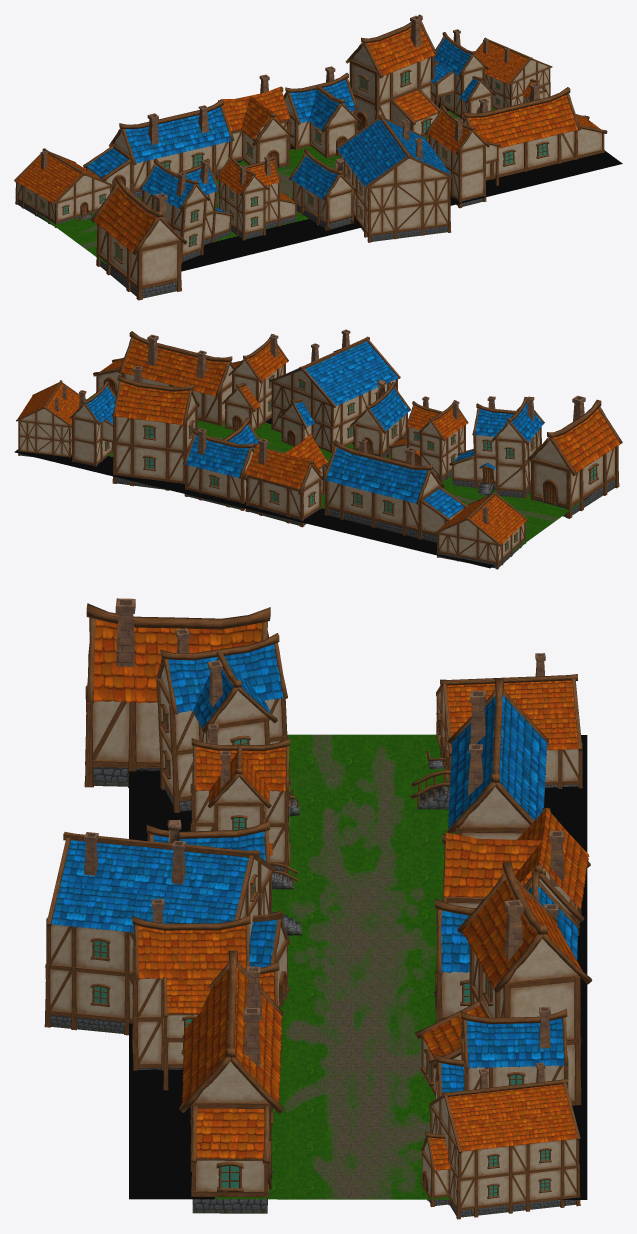
The model's file is houses.glb.
The picture shows the model from 3 angles, top to bottom: view 1: azimuth 30°, elevation 25°; view 2: azimuth 150°, elevation 25°; view 3: azimuth 270°, elevation 25°; orthographic projection. The views are drawn at different scales.
Visible parts, largest first — view 1: BH8, RH5, RH3, BH5, RH2, Plane, BH4, RH7, RH6, BH2, RH1, RH4 (+3 smaller); view 2: BH5, BH8, RH5, RH2, Plane, BH4, RH3, RH1, RH7, BH2, RH6, RH4 (+3 smaller); view 3: Plane, BH8, RH3, RH8, RH5, RH2, BH4, BH5, RH4, RH6, RH1, RH7 (+3 smaller).
Boxes of the visible parts, x1,y1,x2,y2 form: BH8: [336, 114, 453, 242]; RH5: [345, 14, 440, 136]; RH3: [462, 82, 607, 180]; BH5: [83, 99, 234, 197]; RH2: [90, 176, 187, 300]; Plane: [37, 101, 622, 274]; BH4: [139, 158, 233, 263]; RH7: [14, 148, 114, 227]; RH6: [215, 154, 298, 240]; BH2: [283, 66, 362, 158]; RH1: [218, 74, 294, 168]; RH4: [424, 104, 500, 208]; BH5: [322, 438, 468, 542]; BH8: [269, 329, 400, 452]; RH5: [112, 366, 199, 490]; RH2: [525, 395, 622, 518]; Plane: [14, 393, 593, 568]; BH4: [449, 396, 544, 498]; RH3: [93, 331, 234, 426]; RH1: [243, 434, 327, 527]; RH7: [434, 491, 528, 569]; BH2: [183, 418, 259, 510]; RH6: [388, 396, 468, 482]; RH4: [221, 334, 288, 430]; Plane: [129, 734, 587, 1199]; BH8: [44, 832, 290, 1035]; RH3: [179, 950, 283, 1213]; RH8: [420, 1062, 580, 1219]; RH5: [415, 862, 592, 1105]; RH2: [84, 598, 270, 787]; BH4: [155, 628, 299, 816]; BH5: [410, 678, 549, 839]; RH4: [132, 899, 282, 1090]; RH6: [190, 724, 298, 889]; RH1: [442, 807, 590, 935]; RH7: [426, 653, 582, 788].
Bounding box in the file's own units: 66.27 × 13.37 × 31.51.
Materials: 4 (3 with a texture image).
